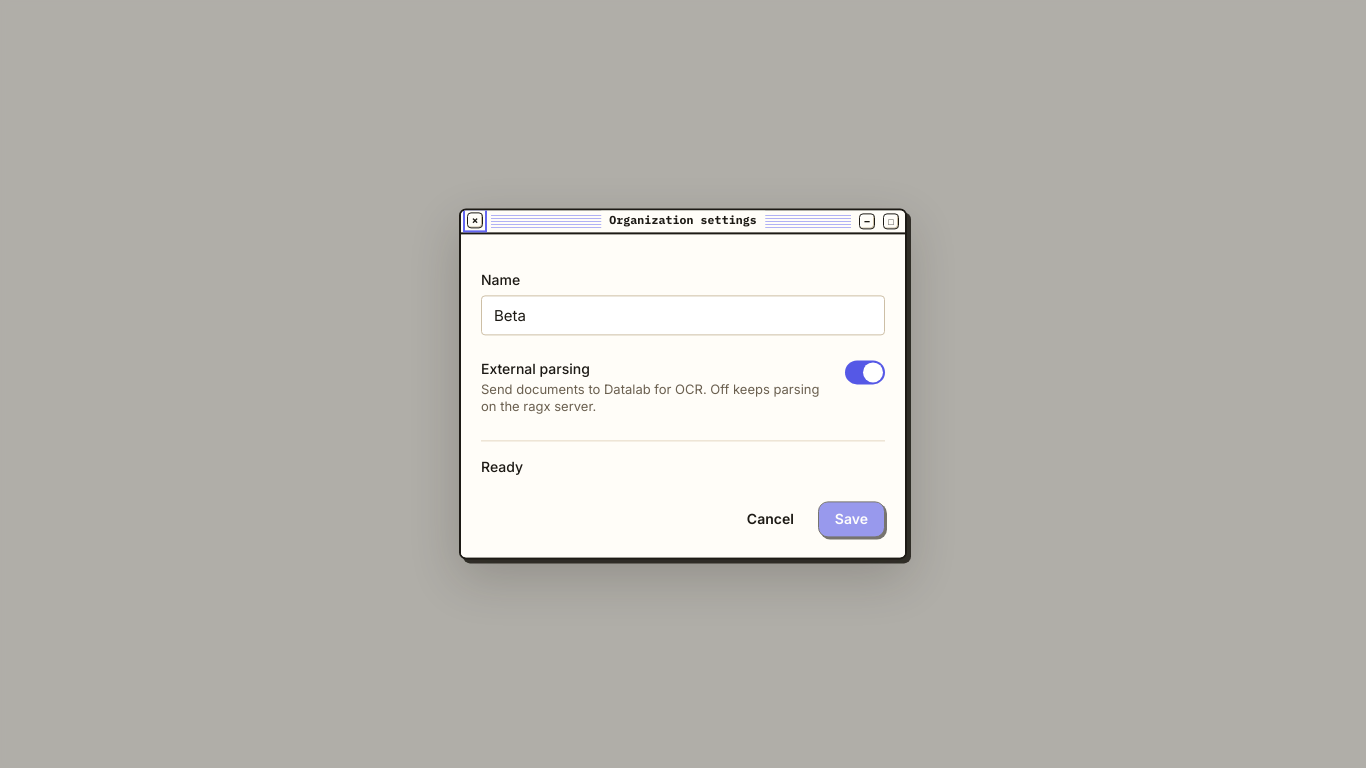
it: OrgDialog settings dirty state › enables Save when external parsing is toggled and disables it when toggled back
Click the switch named "External parsing" at (865, 373), box [845,361,885,385]
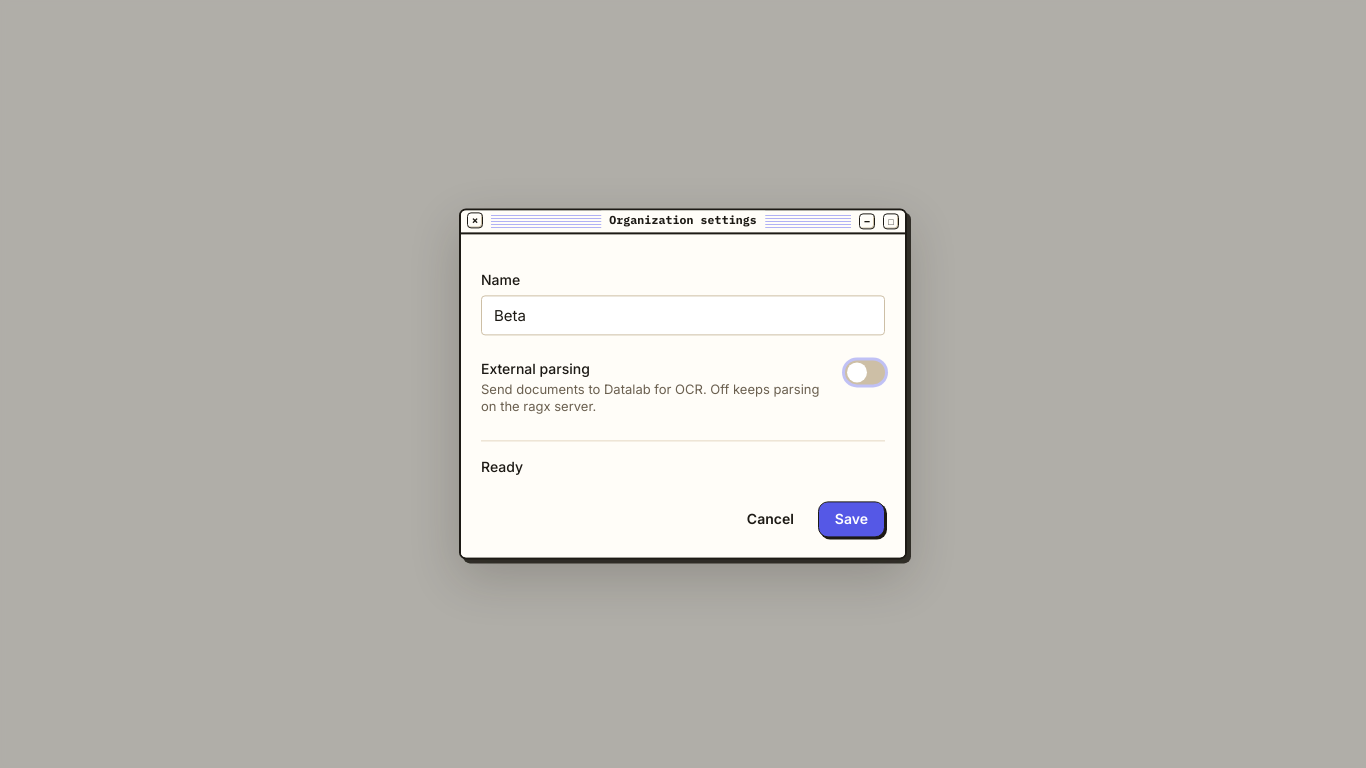
Expected: the button "Save" is enabled, [818,502,885,538]
Click the switch named "External parsing" at (865, 373), box [845,361,885,385]
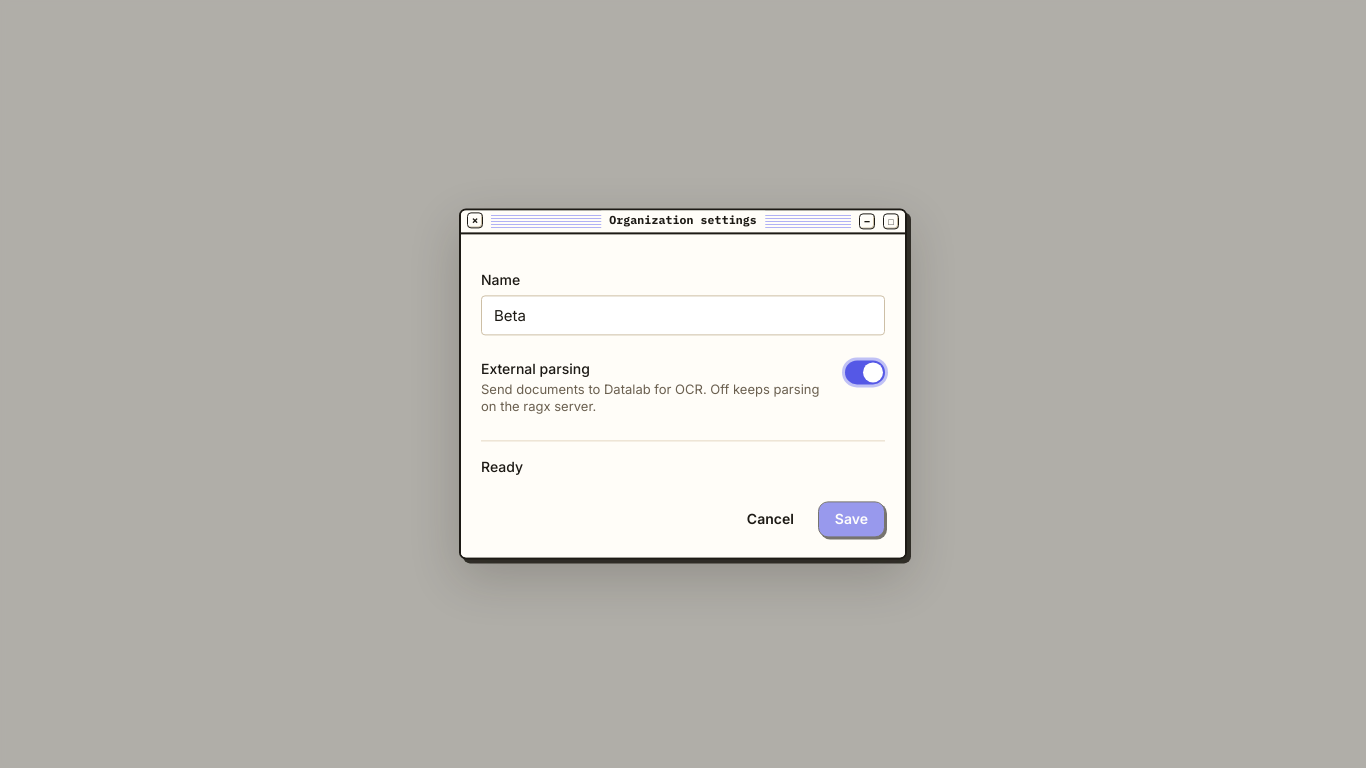
Expected: the button "Save" is disabled, [818,502,885,538]
